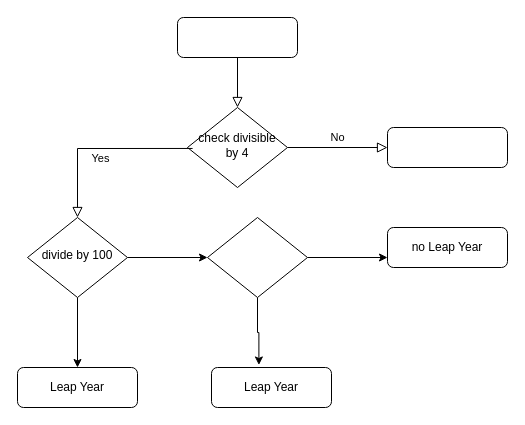
Some shapes in this 525 by 425 pixel diagram are drawn without their labels. Each missing label, with the centre of its shape:
Ask for year: the point at 237,37
divide by 400: the point at 257,257
No Leap: the point at 447,147
